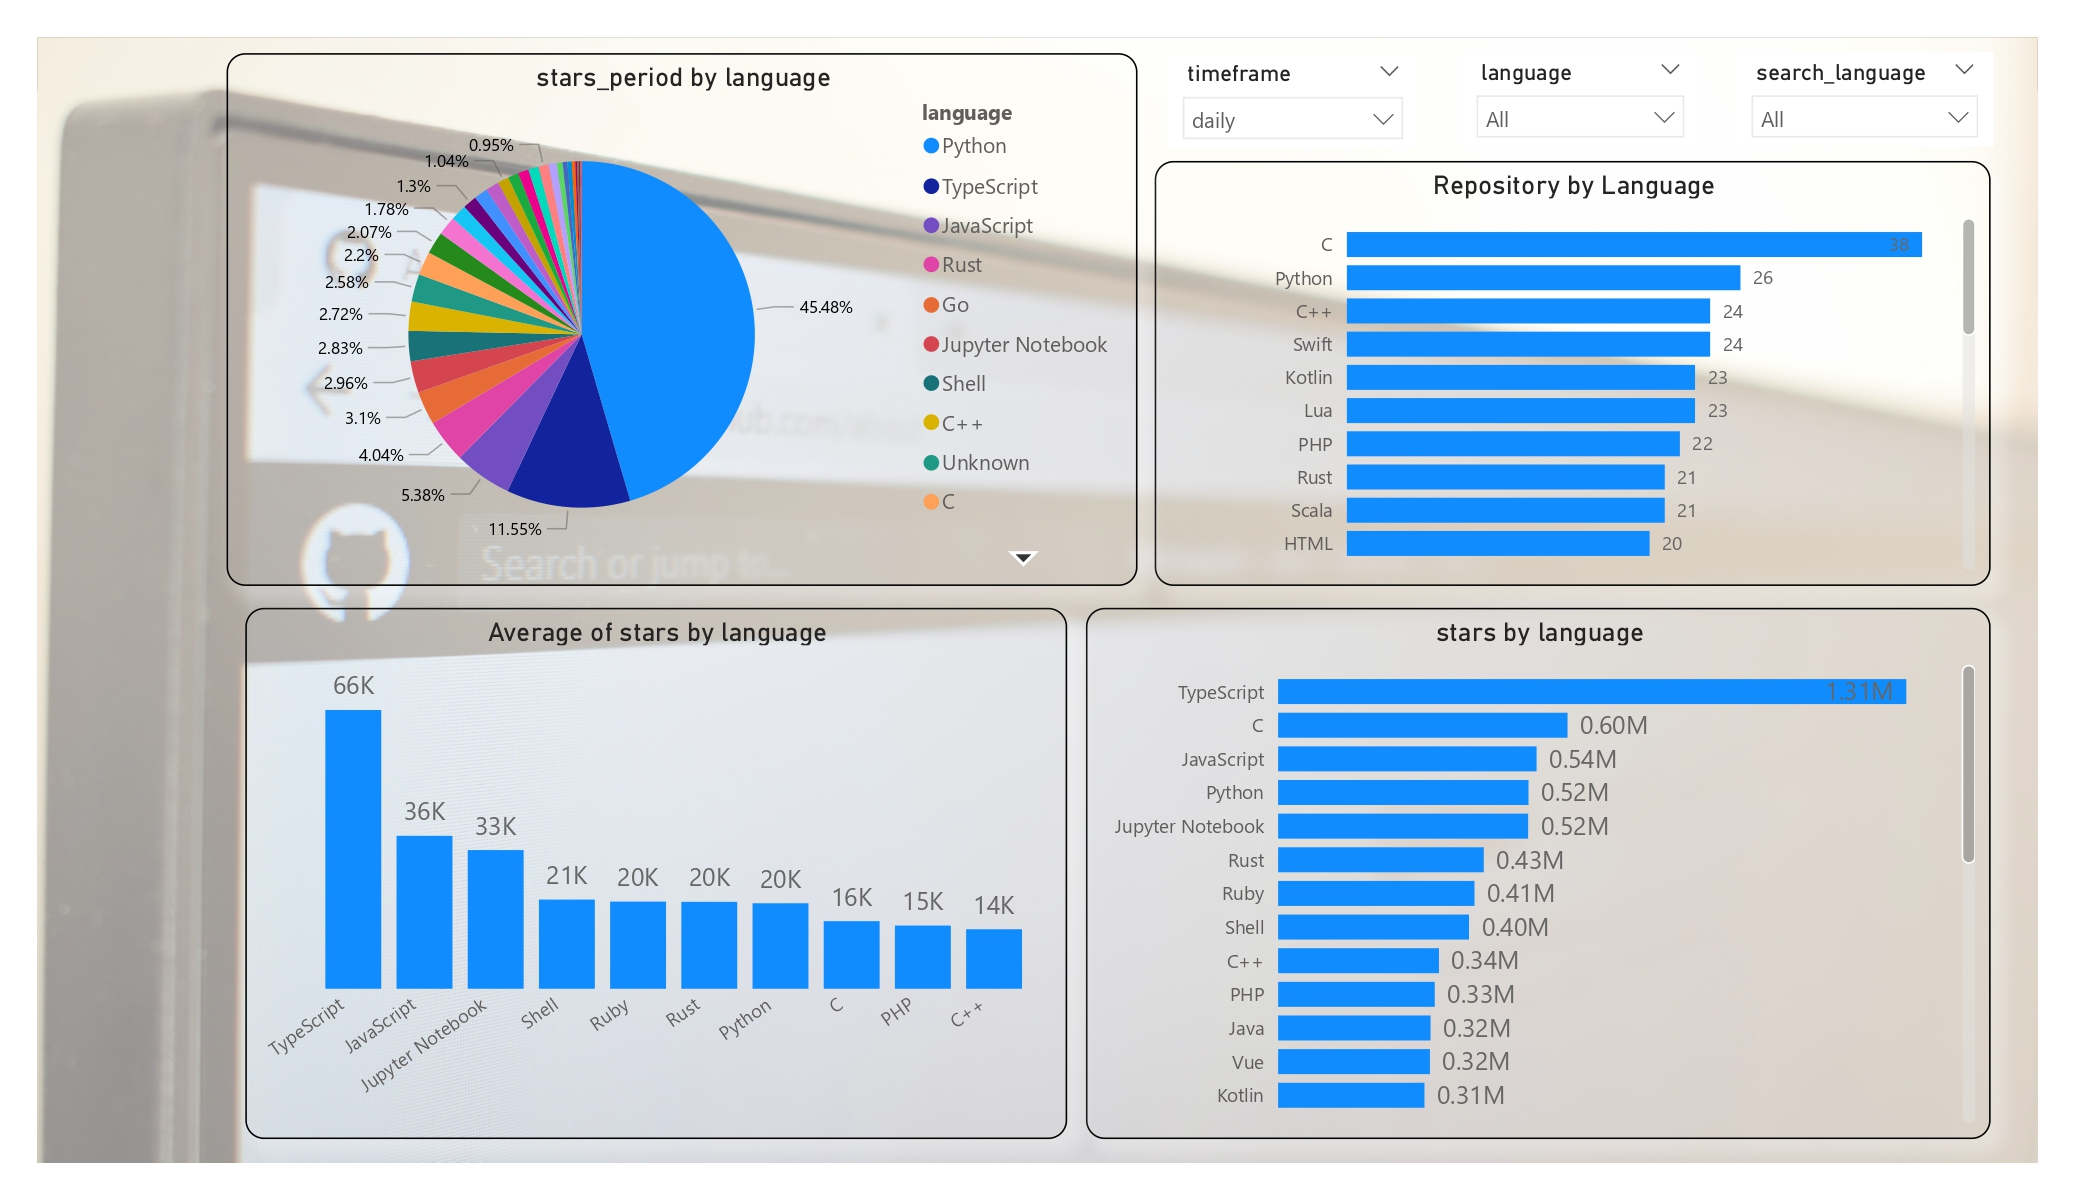

This screenshot's page, from the dashboard's own definition file:
{"tool":"powerbi","page":{"name":"Page 2","canvas":[1280,720],"ordinal":1},"visuals":[{"type":"barChart","title":"Repository  by Language ","fields":{"Category":["github_trending_repos.language"],"Y":["CountNonNull(github_trending_repos.repo_name)"]},"box":[715,78.8,535,272.5],"z":0},{"type":"clusteredBarChart","title":"stars by language","fields":{"Category":["github_trending_repos.language"],"Y":["Sum(github_trending_repos.stars)"]},"box":[671.2,365,578.8,340],"z":1000},{"type":"lineClusteredColumnComboChart","fields":{"Category":["github_trending_repos.language"],"Y":["Avg(github_trending_repos.stars)"]},"box":[132.5,365,526.2,340],"z":2000},{"type":"slicer","fields":{"Values":["github_trending_repos.timeframe"]},"box":[722.5,10,161.2,61.2],"z":3000},{"type":"slicer","fields":{"Values":["github_trending_repos.search_language"]},"box":[1086.5,8.8,165.6,61.1],"z":4000},{"type":"slicer","fields":{"Values":["github_trending_repos.language"]},"box":[911.2,8.8,152.5,61.2],"z":5000},{"type":"pieChart","fields":{"Category":["github_trending_repos.language"],"Y":["Sum(github_trending_repos.stars_period)"]},"box":[121.2,10,582.5,341.2],"z":6000}]}

Visuals, with their boxes in screenshot pixels (x1, y1, x2, y2):
"Repository  by Language " barChart: Rect(1155, 161, 1991, 586)
"stars by language" clusteredBarChart: Rect(1086, 608, 1991, 1139)
lineClusteredColumnComboChart - github_trending_repos.language x Avg(github_trending_repos.stars): Rect(245, 608, 1067, 1139)
slicer - github_trending_repos.timeframe: Rect(1166, 53, 1418, 149)
slicer - github_trending_repos.search_language: Rect(1735, 51, 1994, 147)
slicer - github_trending_repos.language: Rect(1461, 51, 1700, 147)
pieChart - github_trending_repos.language x Sum(github_trending_repos.stars_period): Rect(227, 53, 1137, 586)
